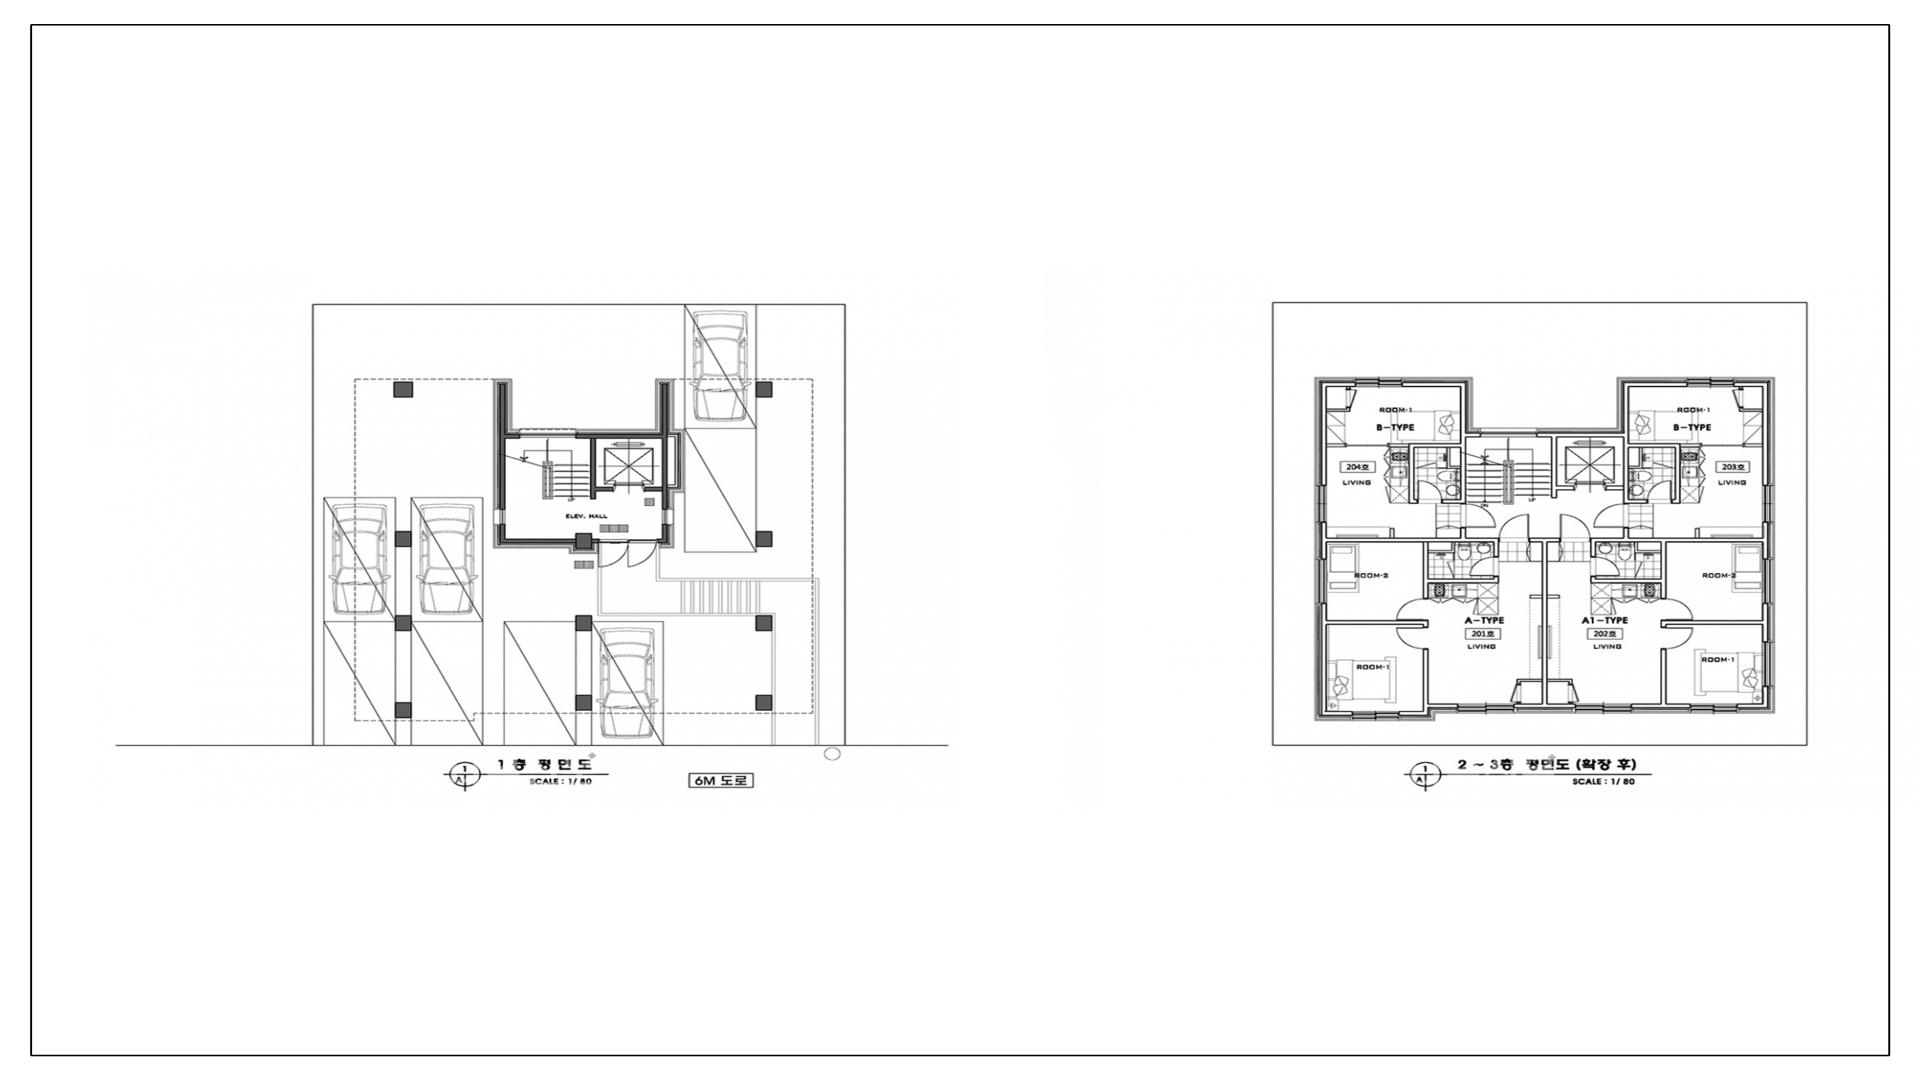door: (598, 539, 658, 568), (1559, 514, 1591, 543), (1499, 514, 1530, 543), (1593, 504, 1630, 528), (1460, 504, 1496, 528), (1661, 627, 1694, 649), (1396, 627, 1429, 649), (1661, 599, 1694, 620), (1396, 599, 1429, 620), (1647, 479, 1673, 504), (1417, 480, 1443, 504), (1591, 556, 1620, 577), (1469, 557, 1499, 577), (1327, 443, 1409, 448), (1681, 443, 1762, 448), (1732, 389, 1744, 407), (1568, 684, 1580, 702), (1346, 390, 1357, 408), (1510, 684, 1521, 702)
wall: (1542, 543, 1548, 704), (661, 384, 668, 510), (499, 384, 506, 510), (1327, 537, 1460, 543), (1762, 382, 1769, 485), (1623, 387, 1629, 504), (1460, 387, 1466, 504), (1321, 603, 1327, 716), (1629, 538, 1762, 543), (1321, 387, 1327, 485), (1537, 432, 1623, 438), (1327, 620, 1423, 625), (1667, 620, 1762, 625), (576, 434, 661, 439), (506, 538, 575, 544), (1660, 543, 1667, 599), (590, 439, 596, 499), (1551, 438, 1557, 498), (1429, 579, 1499, 584), (1675, 443, 1681, 499), (1423, 543, 1429, 599), (1402, 382, 1467, 387), (1661, 649, 1667, 703), (1423, 649, 1429, 703), (1596, 579, 1660, 584), (1623, 382, 1687, 387), (1408, 448, 1414, 499), (394, 381, 413, 397), (575, 615, 592, 632), (755, 615, 772, 632), (1762, 603, 1769, 642), (756, 531, 773, 547), (756, 695, 773, 711), (576, 695, 593, 711), (395, 702, 412, 718), (395, 615, 412, 631), (395, 531, 412, 547), (756, 382, 773, 398), (575, 533, 592, 549), (1762, 522, 1769, 559), (1409, 443, 1460, 448), (1514, 704, 1576, 708), (1632, 704, 1690, 708), (1629, 443, 1675, 448), (1321, 522, 1327, 559), (1466, 537, 1499, 543), (1590, 537, 1623, 543), (1321, 382, 1356, 387), (1399, 711, 1429, 716), (1530, 538, 1560, 543), (1734, 382, 1762, 387), (1423, 704, 1457, 708), (499, 524, 506, 543), (1327, 711, 1353, 716), (1737, 704, 1769, 708), (1762, 686, 1769, 703), (1605, 485, 1623, 491), (1629, 499, 1647, 504), (1466, 432, 1481, 438), (662, 524, 668, 539), (1557, 485, 1575, 490), (1460, 528, 1466, 543), (1623, 528, 1629, 543), (1443, 499, 1460, 504), (1447, 448, 1451, 469), (1590, 543, 1596, 557), (1639, 448, 1643, 469), (1429, 550, 1455, 553), (1548, 679, 1573, 682), (506, 434, 520, 439), (1638, 550, 1661, 553), (1327, 409, 1350, 412), (596, 487, 613, 491), (645, 487, 662, 491), (1494, 543, 1499, 556), (1521, 679, 1541, 682), (1743, 409, 1762, 412), (1389, 528, 1395, 537), (1548, 595, 1560, 599), (1695, 528, 1700, 537), (1530, 595, 1541, 599), (1590, 577, 1596, 584), (1661, 620, 1667, 627), (1423, 620, 1429, 627), (1634, 543, 1638, 553), (1673, 499, 1681, 504), (658, 539, 668, 543), (1409, 499, 1417, 504), (1629, 466, 1639, 469), (1451, 543, 1455, 550), (1451, 466, 1460, 469), (592, 539, 598, 543), (1517, 679, 1521, 684), (1739, 407, 1743, 412), (1423, 708, 1429, 711), (1346, 387, 1350, 390), (1494, 577, 1499, 579), (1517, 702, 1521, 704), (1569, 702, 1573, 704), (1569, 682, 1573, 684), (1739, 387, 1743, 389), (1346, 408, 1350, 409)
window: (1480, 427, 1537, 438), (1458, 703, 1514, 714), (1762, 642, 1776, 686), (1576, 703, 1631, 714), (1762, 559, 1775, 603), (520, 428, 576, 438), (1315, 559, 1327, 603), (1690, 703, 1737, 714), (1687, 377, 1734, 387), (1356, 377, 1402, 387), (1353, 711, 1399, 721), (1315, 485, 1327, 522), (1763, 485, 1775, 522), (493, 510, 506, 524), (662, 510, 674, 524)
